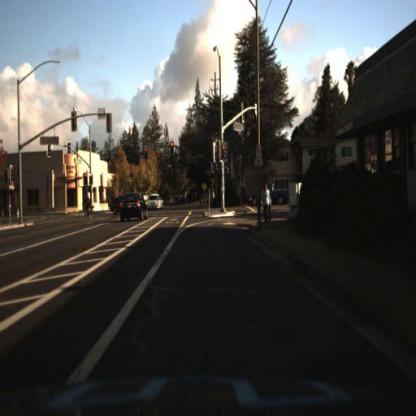biker: (77, 190, 96, 224), (77, 195, 94, 222)
car: (248, 183, 297, 207), (119, 190, 150, 223), (254, 183, 291, 206), (108, 196, 142, 221), (112, 198, 143, 214), (148, 193, 163, 213)
pedestrian: (262, 181, 273, 224)
trafficLight-Red: (169, 141, 177, 162), (221, 144, 228, 162), (211, 165, 216, 183), (171, 142, 176, 154)
trafficLight-RedLeft: (143, 145, 151, 163), (83, 174, 90, 188), (84, 171, 89, 188), (145, 147, 149, 160)
